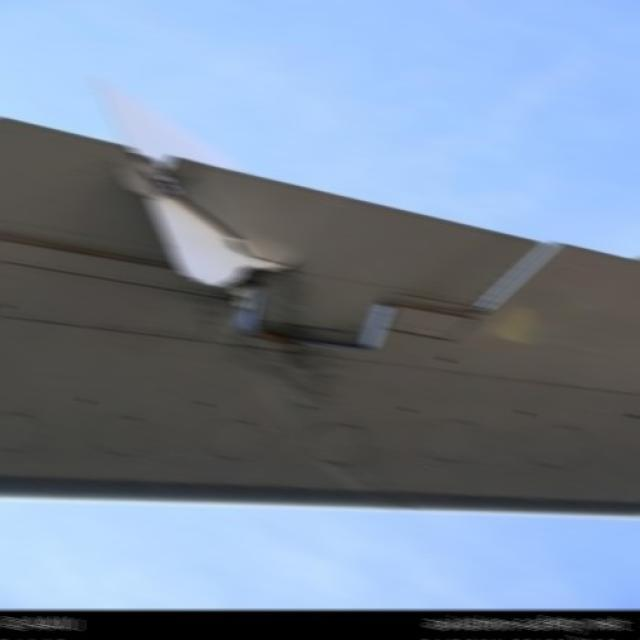crack: (107, 148, 306, 295)
